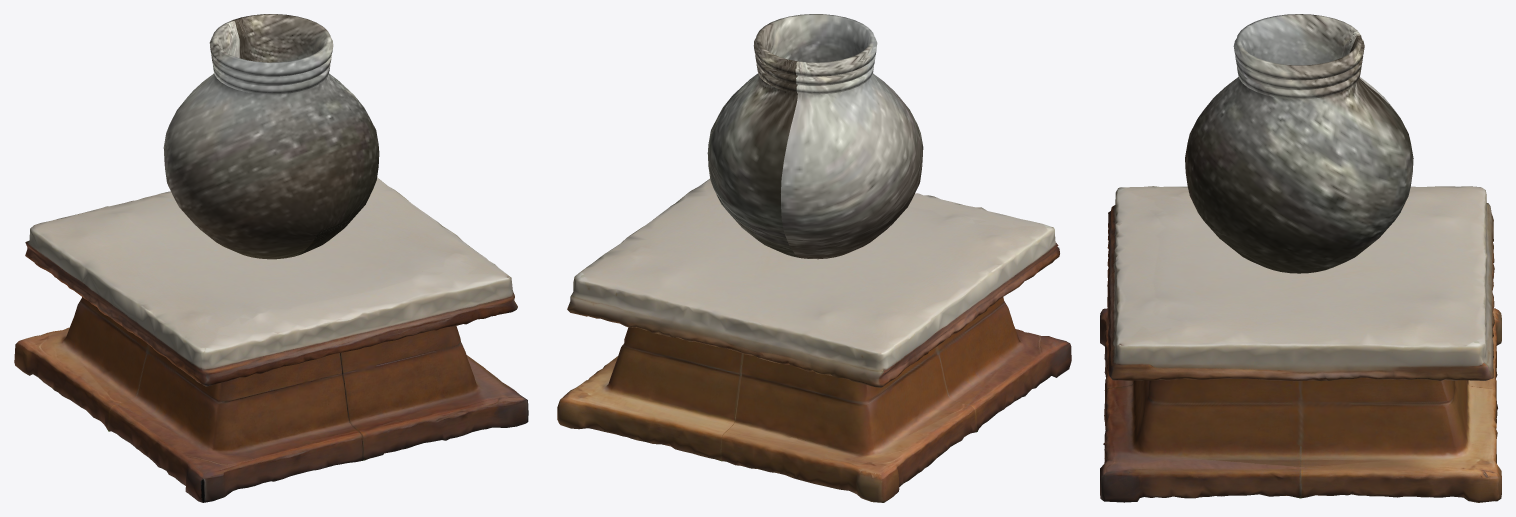
File: benda4.glb
3 renders of one model, left to right at view 1: azimuth 30°, elevation 25°; view 2: azimuth 150°, elevation 25°; view 3: azimuth 270°, elevation 25°, orthographic. The views are drawn at different scales.
Visible parts, largest first — view 1: Mesh_0, Cylinder; view 2: Mesh_0, Cylinder; view 3: Mesh_0, Cylinder.
Boxes of the visible parts, x1,y1,x2,y2 form: Mesh_0: (14, 177, 528, 502); Cylinder: (163, 14, 379, 259); Mesh_0: (557, 179, 1071, 502); Cylinder: (707, 14, 923, 259); Mesh_0: (1100, 186, 1501, 502); Cylinder: (1185, 14, 1413, 273).
Size of the model in its own units: 2.33 by 2.42 by 2.33.
2 materials, 2 textured.
